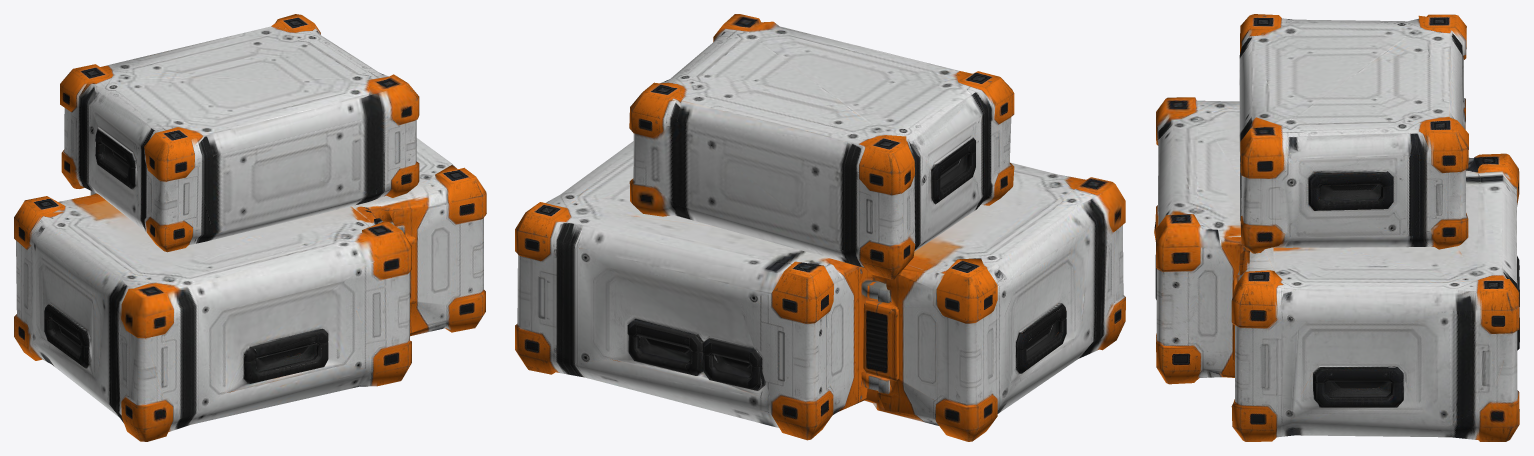
File: AW-MOON-SUPPLY-001-v0.2.glb
The picture shows the model from 3 angles, left to right: view 1: azimuth 30°, elevation 25°; view 2: azimuth 150°, elevation 25°; view 3: azimuth 270°, elevation 25°; orthographic projection. The views are drawn at different scales.
Visible parts, largest first — view 1: AW-MOON-SUPPLY-001_meter_ground_pivot; view 2: AW-MOON-SUPPLY-001_meter_ground_pivot; view 3: AW-MOON-SUPPLY-001_meter_ground_pivot.
Boxes of the visible parts, x1,y1,x2,y2 form: AW-MOON-SUPPLY-001_meter_ground_pivot: (14,14,486,441); AW-MOON-SUPPLY-001_meter_ground_pivot: (515,14,1125,441); AW-MOON-SUPPLY-001_meter_ground_pivot: (1154,14,1519,441).
Bounding box in the file's own units: 2.22 × 1.4 × 1.7.
Materials: 1 (1 with a texture image).
